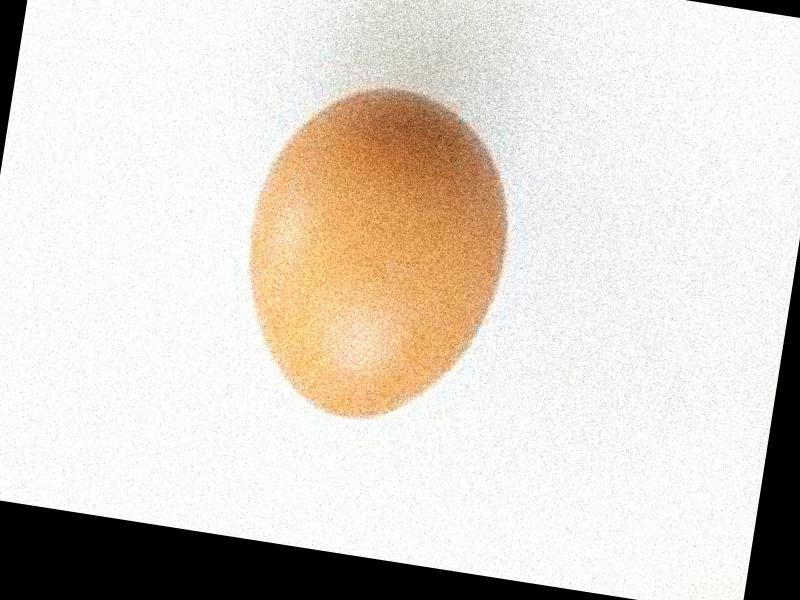Eggs: (227, 67, 530, 443)
